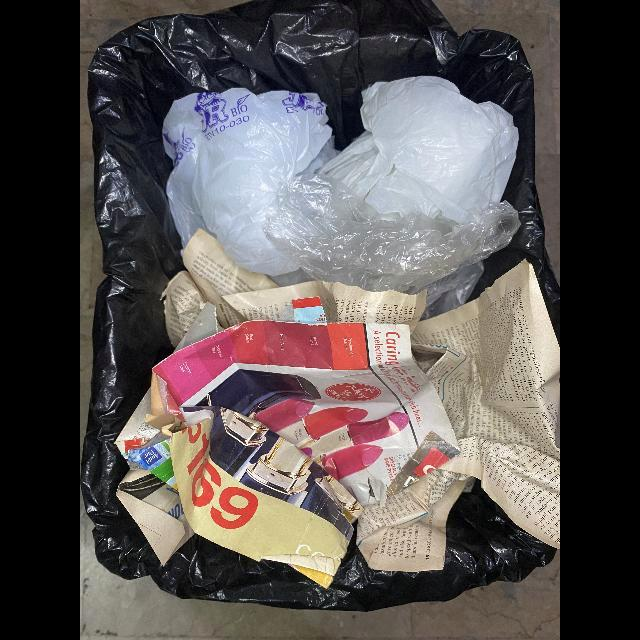paper: (145, 298, 459, 504), (358, 260, 560, 573), (163, 228, 296, 348), (164, 227, 282, 352), (279, 280, 425, 334), (117, 468, 192, 568), (113, 387, 177, 498)
plastic_bag: (266, 175, 520, 318), (299, 76, 518, 225), (162, 87, 331, 274)
